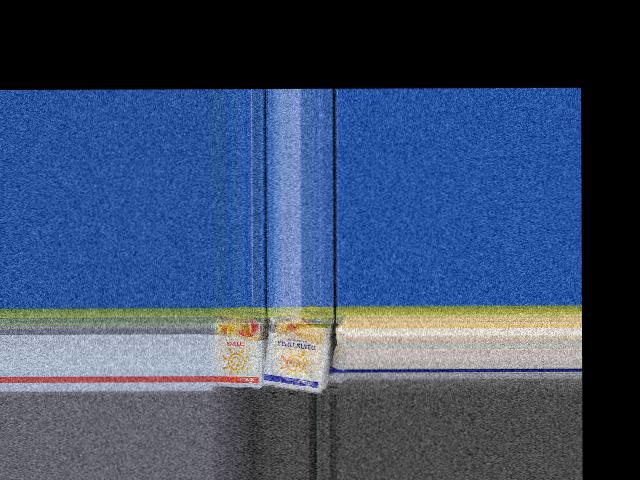cheese: (208, 306, 263, 392)
